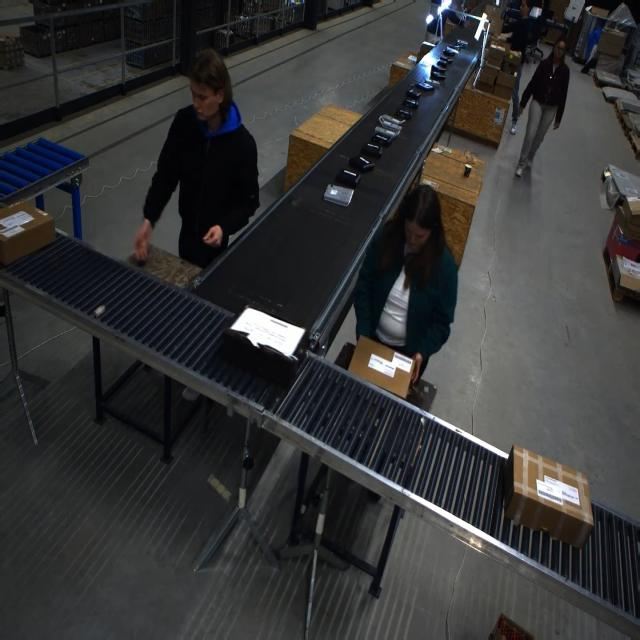box: (502, 446, 593, 547), (218, 306, 306, 389), (346, 335, 413, 400), (0, 200, 55, 265)
product: (323, 184, 354, 206), (336, 168, 362, 187), (348, 155, 373, 173), (379, 114, 403, 129), (374, 125, 398, 140), (362, 143, 383, 159), (372, 133, 393, 148), (395, 108, 412, 120), (405, 88, 421, 100), (415, 81, 434, 91), (402, 99, 419, 110), (430, 70, 446, 80), (425, 77, 441, 87), (436, 59, 450, 69), (438, 55, 453, 64), (442, 47, 456, 56), (448, 43, 462, 51), (455, 41, 467, 49)
